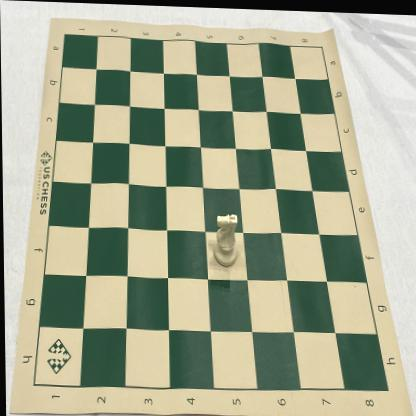white-knight: (212, 212, 238, 267)
